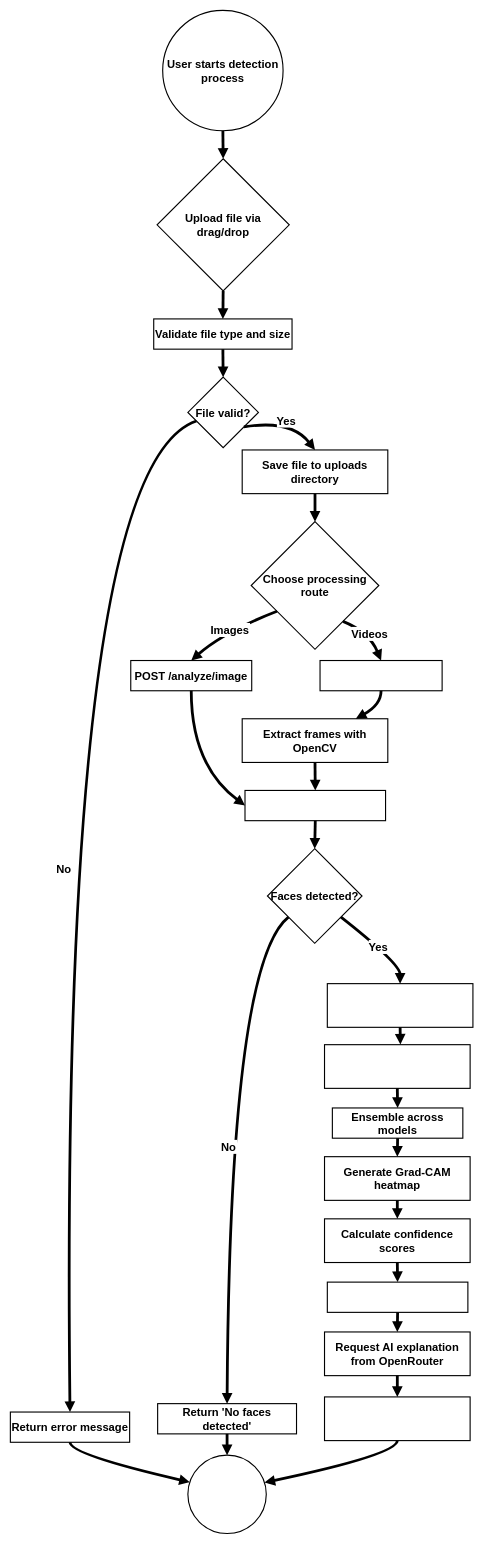
The diagram is 483 pixels wide and 1543 high, and some of its shapes have lost their labels. The centre of each missing label's shape, as x and y in pixels:
"Deepfake Analysis Using EfficientNet-B7 CNN" goes at pixel 397 1066.
"Display complete results with heatmap" goes at pixel 397 1418.
"Extract faces using MTCNN" goes at pixel 315 805.
"Generate prediction result" goes at pixel 397 1297.
"POST /analyze/videos" goes at pixel 380 675.
"Process complete" goes at pixel 227 1494.
"Resize and crop face regions using MTCNN" goes at pixel 399 1005.
